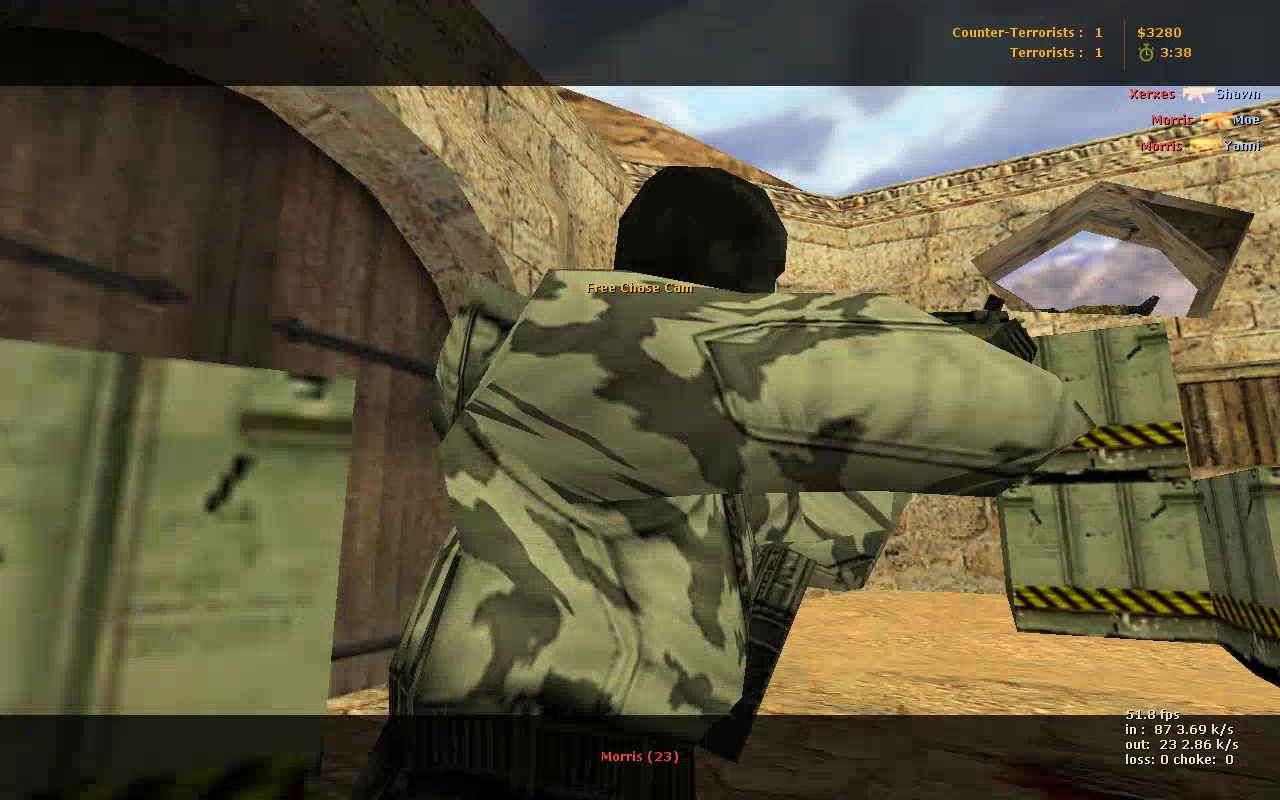terr2: (384, 168, 1092, 704)
